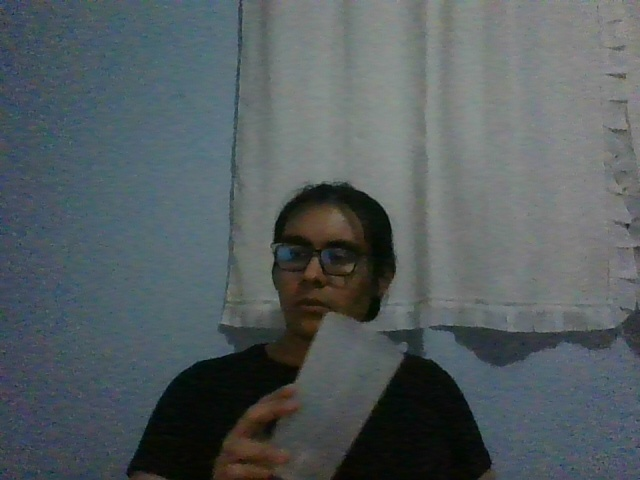vaso: (257, 311, 406, 480)
